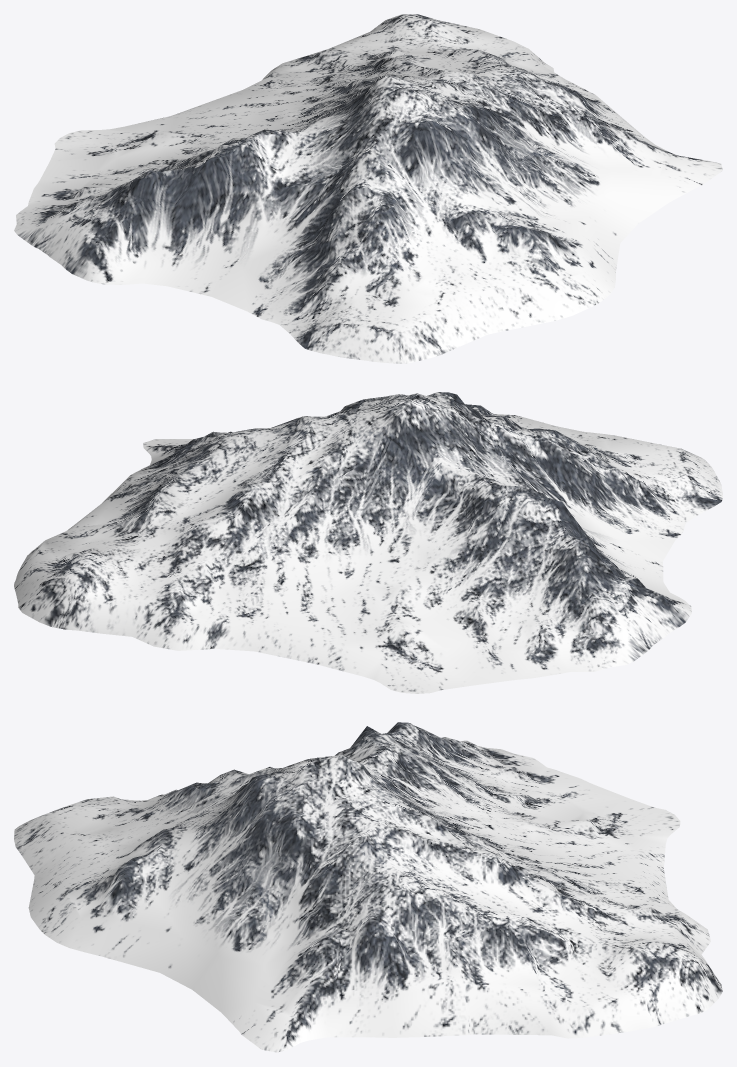
3 views of the same model, one above another, from view 1: azimuth 30°, elevation 25°; view 2: azimuth 150°, elevation 25°; view 3: azimuth 270°, elevation 25° (orthographic). The views are drawn at different scales.
Visible parts, largest first — view 1: 1_wj_02_01; view 2: 1_wj_02_01; view 3: 1_wj_02_01.
Boxes of the visible parts, bbox=[...] form: 1_wj_02_01: bbox=[14, 14, 722, 363]; 1_wj_02_01: bbox=[14, 392, 722, 693]; 1_wj_02_01: bbox=[14, 722, 722, 1052].
Size of the model in its own units: 30.16 by 6.68 by 29.69.
Materials: 1 (1 with a texture image).
